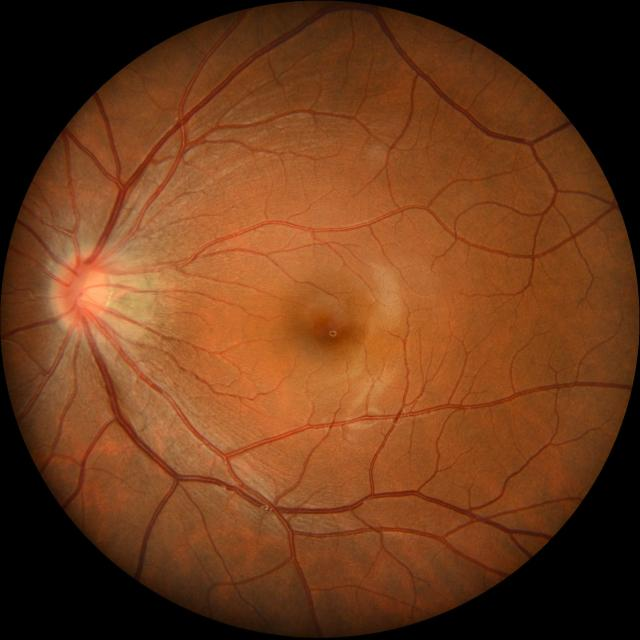OC: (80, 276, 102, 308)
OD: (52, 254, 110, 326)
